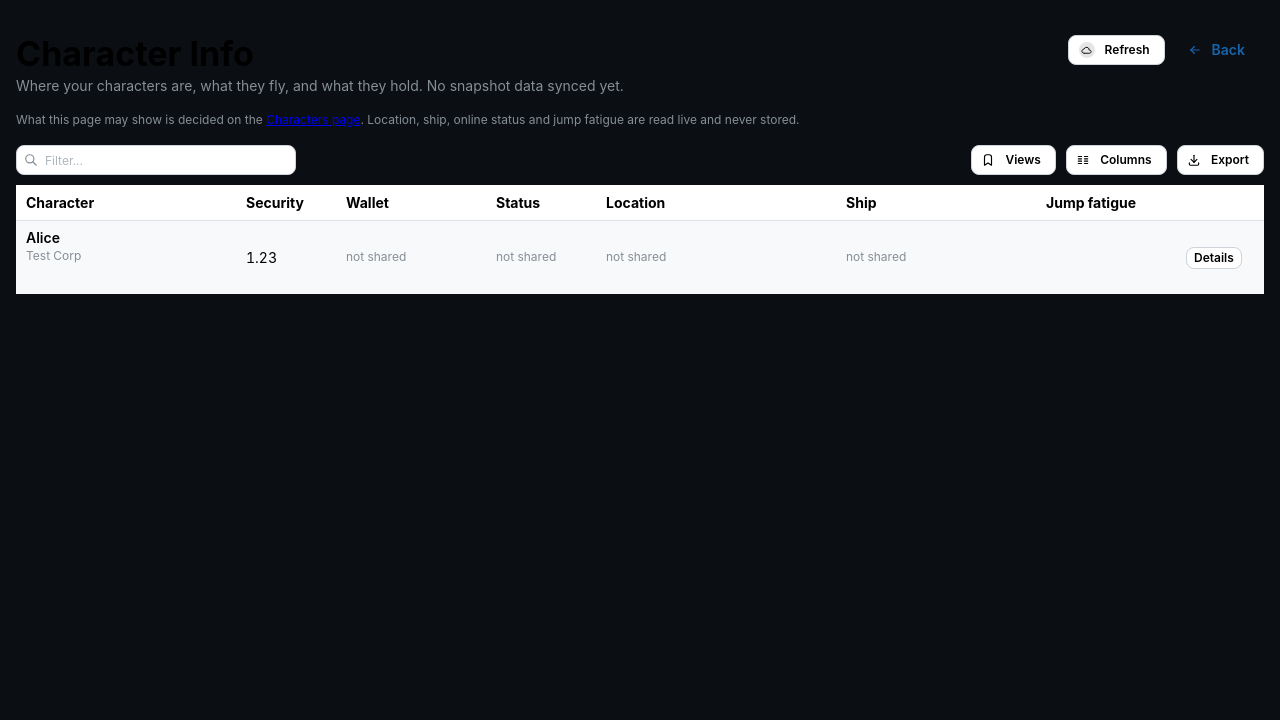
Test case: Character Info page › Refresh syncs, tells the user about an already-running sync, and refetches
Expected: the text "Alice" is shown, [26,229,60,246]
Click the button "Refresh" at (1116, 50), box [1068,35,1165,65]
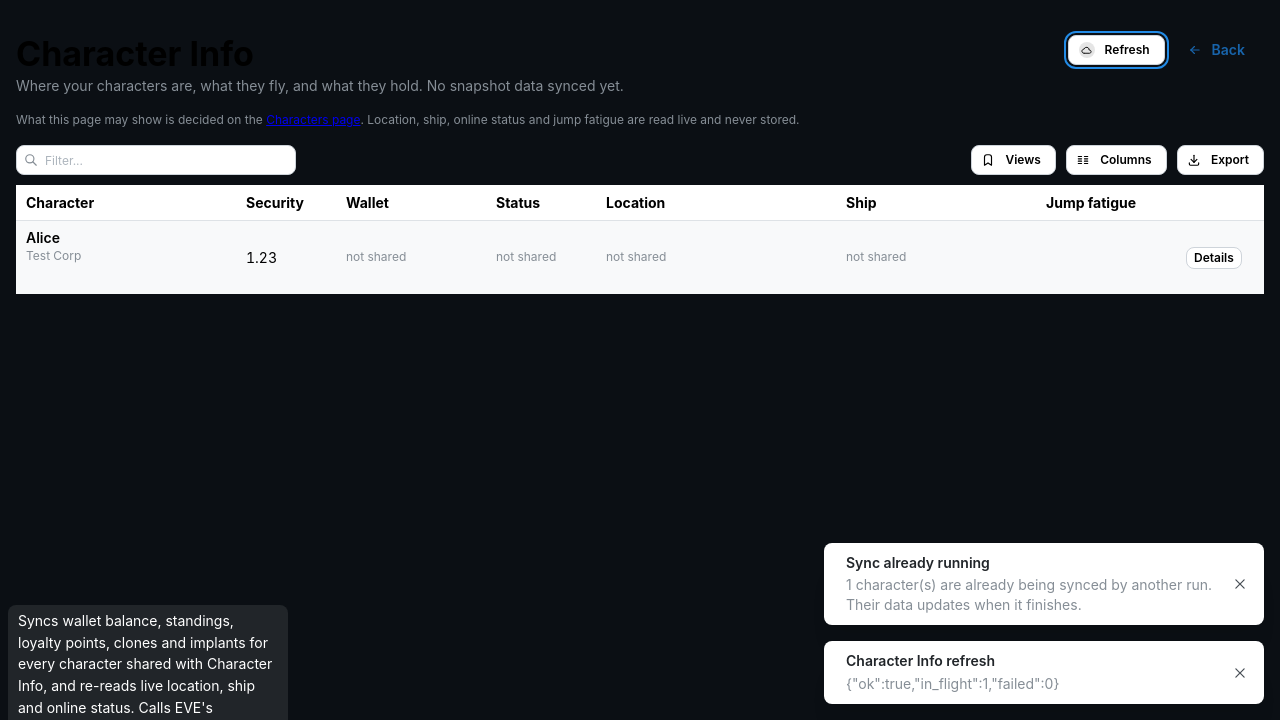
Expected: the text "Sync already running" is shown, [846,554,990,570]
